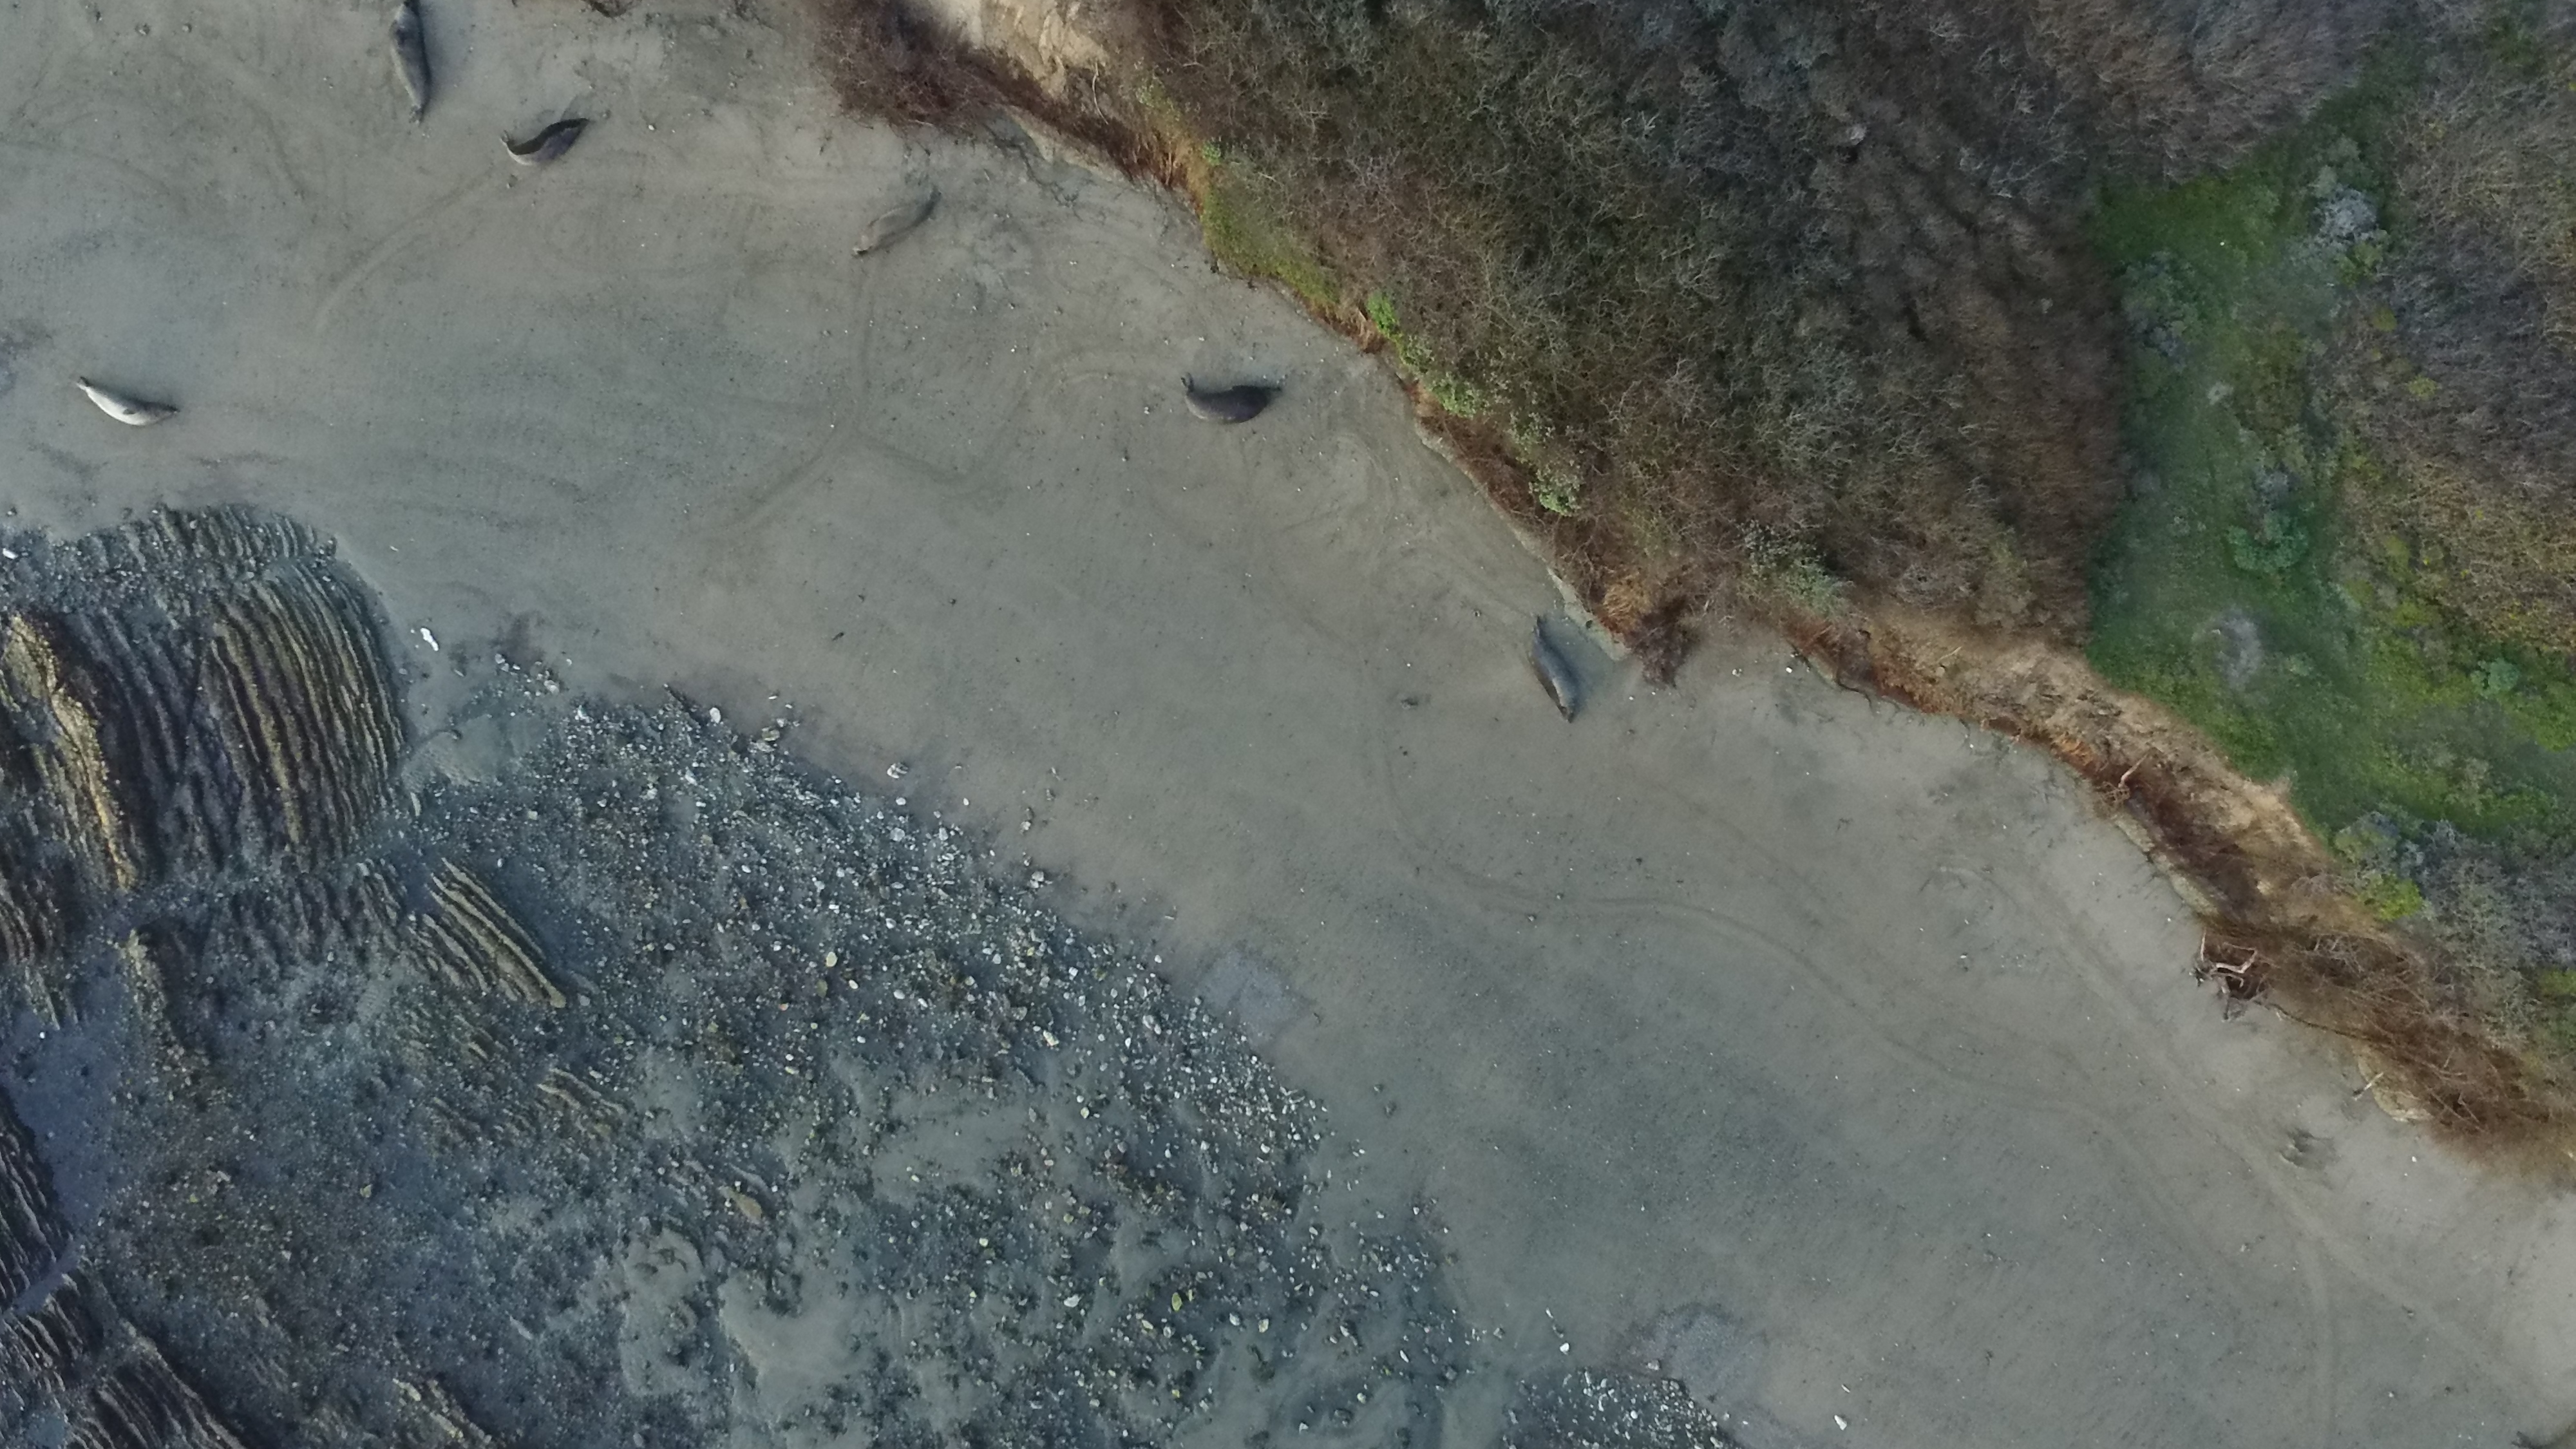adult male: (386, 0, 439, 134)
male juvenile / female juvenile / adult female: (849, 191, 947, 258), (497, 117, 594, 175), (78, 377, 180, 432), (1532, 623, 1585, 725), (1178, 373, 1276, 428)
